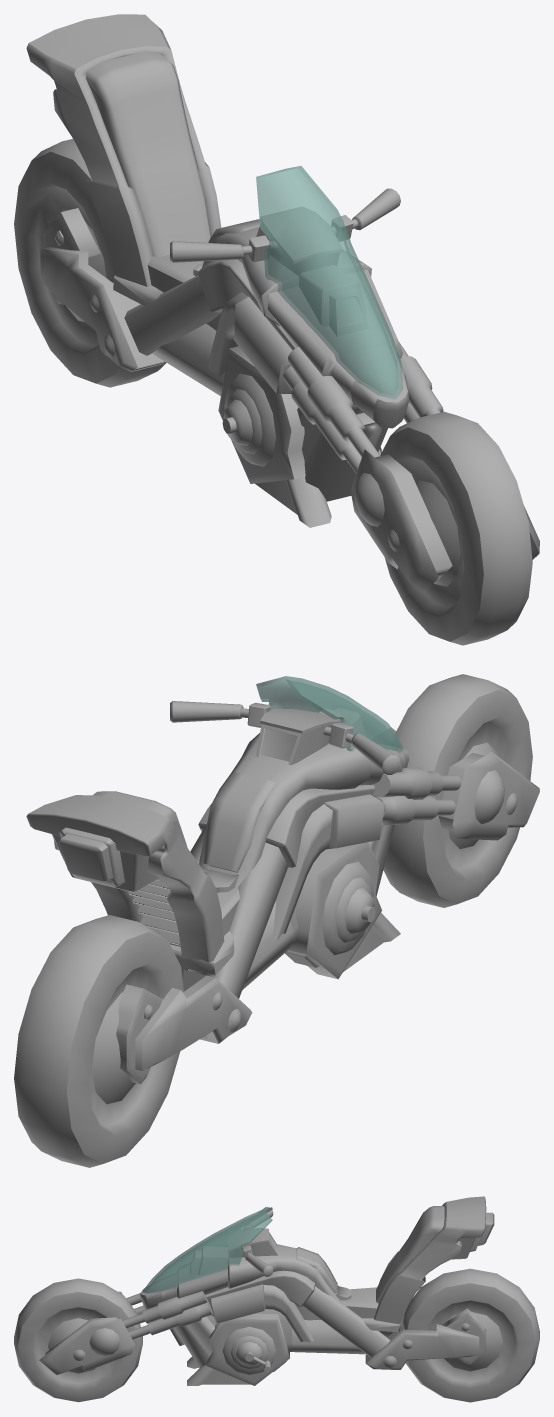
File: SM_Neon_Cruiser.fbx
The picture shows the model from 3 angles, top to bottom: view 1: azimuth 30°, elevation 25°; view 2: azimuth 150°, elevation 25°; view 3: azimuth 270°, elevation 25°; orthographic projection. The views are drawn at different scales.
Parts seen in each view (by area): view 1: Neon_Cruiser_Body, Neon_Cruiser_Front_Wheel, Neon_Cruiser_Glass, Neon_Cruiser_Back_Wheel; view 2: Neon_Cruiser_Body, Neon_Cruiser_Back_Wheel, Neon_Cruiser_Front_Wheel, Neon_Cruiser_Glass; view 3: Neon_Cruiser_Body, Neon_Cruiser_Back_Wheel, Neon_Cruiser_Front_Wheel, Neon_Cruiser_Glass.
Boxes of the visible parts, box(x1,y1,x2,y2) form: Neon_Cruiser_Body: box(26, 14, 539, 593); Neon_Cruiser_Front_Wheel: box(380, 411, 532, 645); Neon_Cruiser_Glass: box(256, 166, 402, 399); Neon_Cruiser_Back_Wheel: box(14, 139, 166, 387); Neon_Cruiser_Body: box(26, 701, 539, 1084); Neon_Cruiser_Back_Wheel: box(14, 915, 183, 1167); Neon_Cruiser_Front_Wheel: box(383, 674, 532, 907); Neon_Cruiser_Glass: box(256, 676, 402, 752); Neon_Cruiser_Body: box(39, 1196, 494, 1385); Neon_Cruiser_Back_Wheel: box(402, 1268, 539, 1402); Neon_Cruiser_Front_Wheel: box(14, 1278, 142, 1402); Neon_Cruiser_Glass: box(143, 1207, 272, 1293).
Bounding box in the file's own units: 89.07 × 128 × 318.
